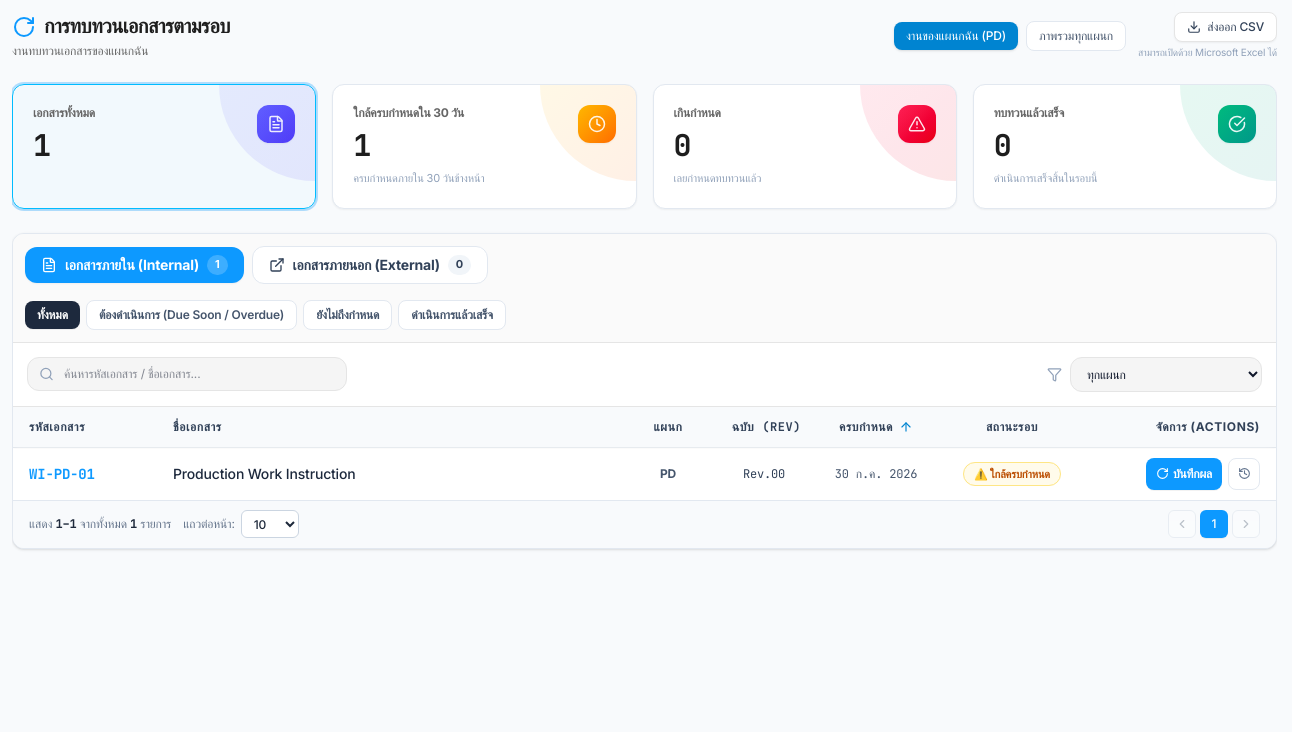
Scenario: Periodic Review Components & Integration › Management User (e.g. กัลยาณี L5 - PD) › displays all records without empty table when selecting "ทุกแผนก" in dropdown
The image size is (1292, 732).
Step 1. Select "ทุกแผนก" in the dropdown named "กรองตามแผนก" → (1166, 374), box [1070,357,1262,392]
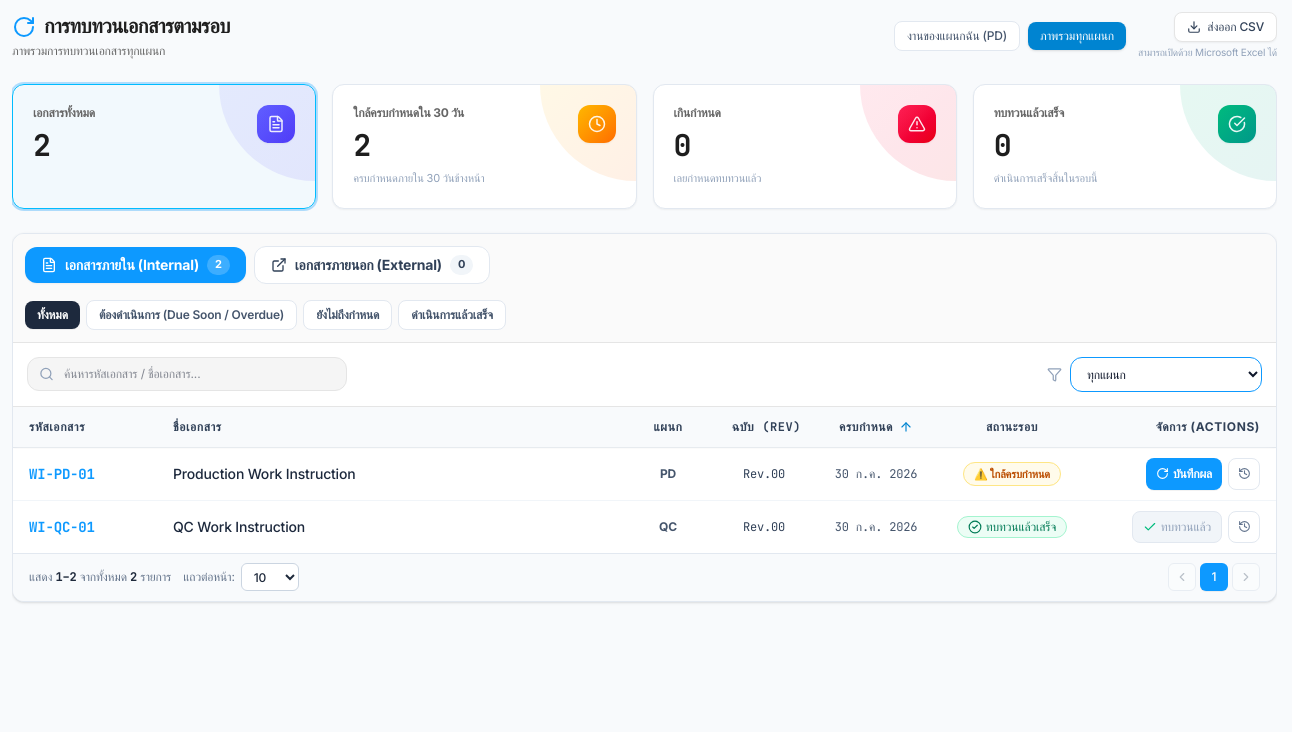
Expected: the text "WI-PD-01" is shown, [13,447,157,500]
Expected: the text "WI-QC-01" is shown, [13,500,157,553]
